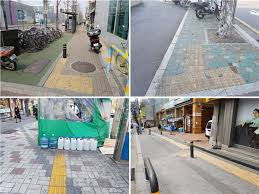guide_blocks: (161, 66, 244, 90), (47, 75, 93, 93), (49, 149, 65, 194), (185, 47, 205, 71), (51, 56, 66, 76)
